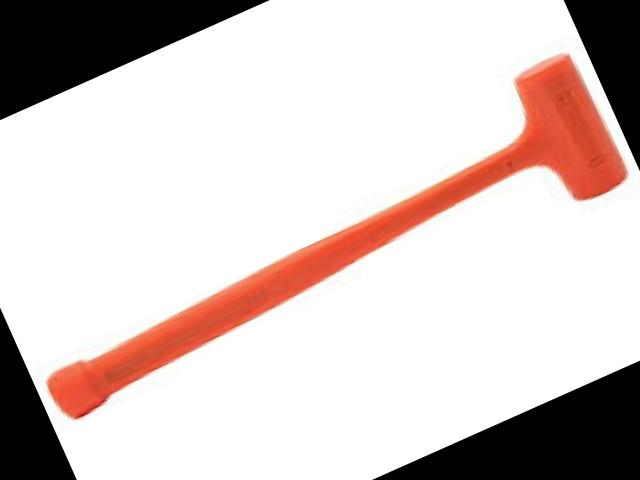hammer: (5, 46, 634, 434)
